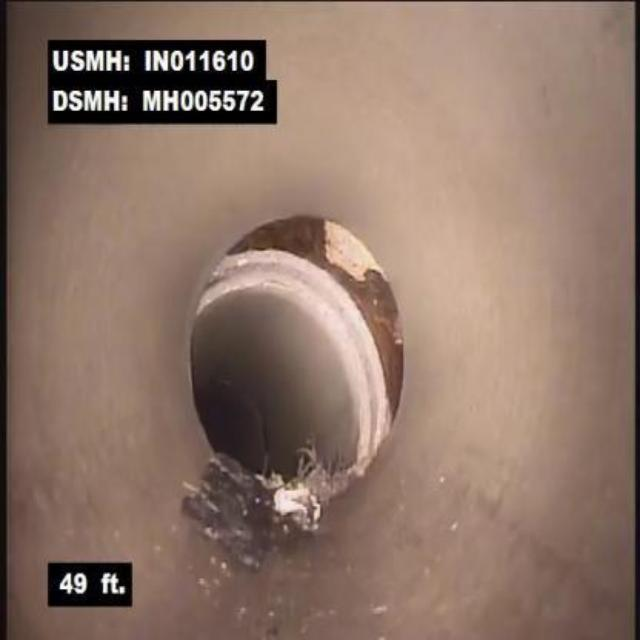Hole: (218, 211, 400, 295), (349, 298, 412, 491)
